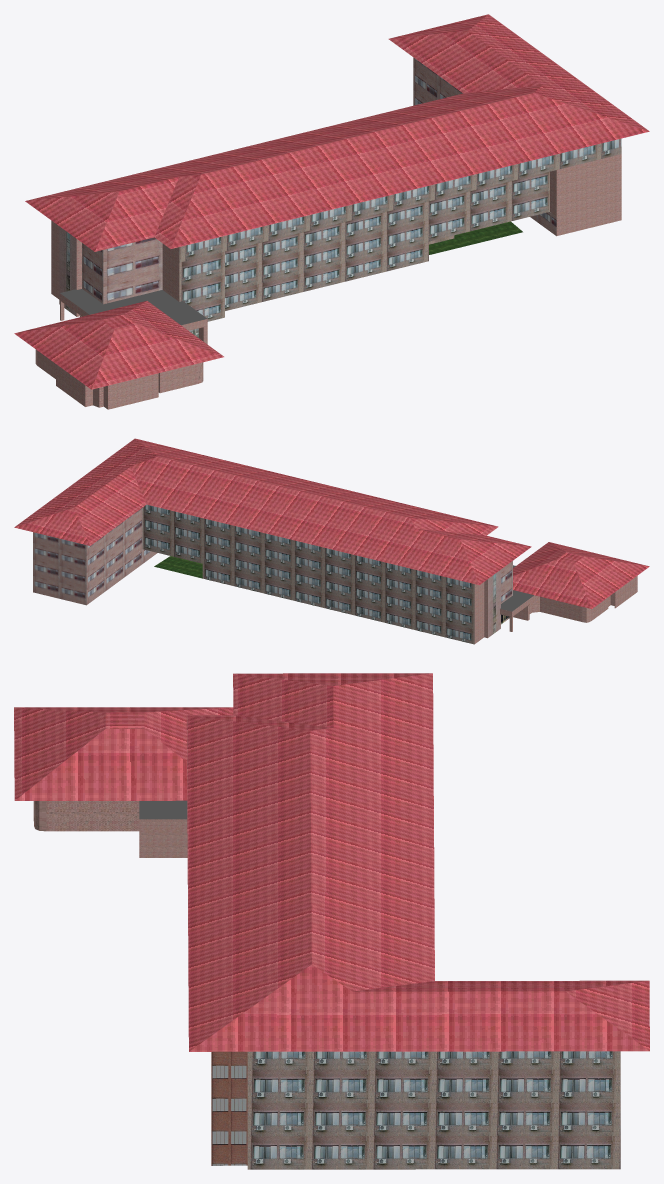
File: Humanities_and_Social_Sciences_Tool.obj
3 views of the same model, one above another, from view 1: azimuth 30°, elevation 25°; view 2: azimuth 150°, elevation 25°; view 3: azimuth 270°, elevation 25° (orthographic). The views are drawn at different scales.
Visible parts, largest first — view 1: VMtl1780, VMtl1776, VMtl1781, VMtl1774, VMtl1766, VMtl1683, VMtl1765, VMtl896; view 2: VMtl1781, VMtl1776, VMtl1780, VMtl1766, VMtl1774, VMtl1770, VMtl1765, VMtl898, VMtl1683; view 3: VMtl1781, VMtl1780, VMtl1776, VMtl1774, VMtl1773, VMtl1683.
Boxes of the visible parts, x1=… form: VMtl1780: x1=14, y1=93, x2=649, y2=389; VMtl1776: x1=179, y1=138, x2=621, y2=321; VMtl1781: x1=26, y1=14, x2=649, y2=200; VMtl1774: x1=35, y1=154, x2=621, y2=409; VMtl1766: x1=82, y1=57, x2=462, y2=304; VMtl1683: x1=60, y1=289, x2=207, y2=325; VMtl1765: x1=59, y1=226, x2=76, y2=316; VMtl896: x1=429, y1=232, x2=521, y2=254; VMtl1781: x1=14, y1=438, x2=479, y2=584; VMtl1776: x1=142, y1=504, x2=474, y2=644; VMtl1780: x1=135, y1=438, x2=649, y2=608; VMtl1766: x1=33, y1=508, x2=512, y2=605; VMtl1774: x1=474, y1=576, x2=637, y2=643; VMtl1770: x1=86, y1=549, x2=157, y2=604; VMtl1765: x1=488, y1=570, x2=500, y2=637; VMtl898: x1=154, y1=556, x2=202, y2=578; VMtl1683: x1=500, y1=565, x2=533, y2=611; VMtl1781: x1=189, y1=673, x2=649, y2=1051; VMtl1780: x1=14, y1=673, x2=431, y2=1051; VMtl1776: x1=247, y1=1051, x2=620, y2=1169; VMtl1774: x1=33, y1=801, x2=187, y2=857; VMtl1773: x1=211, y1=1051, x2=247, y2=1165; VMtl1683: x1=139, y1=800, x2=187, y2=819.
Size of the model in its own units: 130 by 22.92 by 80.27.
Materials: 22 (17 with a texture image).
